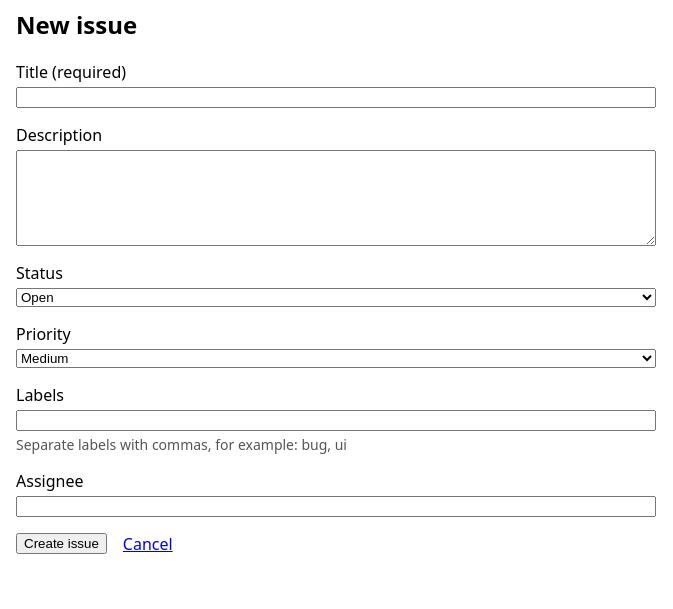
IssueCreateView › shows a readable message for a non-validation failure
The width and height of the screenshot is (673, 609).
Type "Valid title" into the field with id "issue-title" at (336,97), box [16,87,656,108]
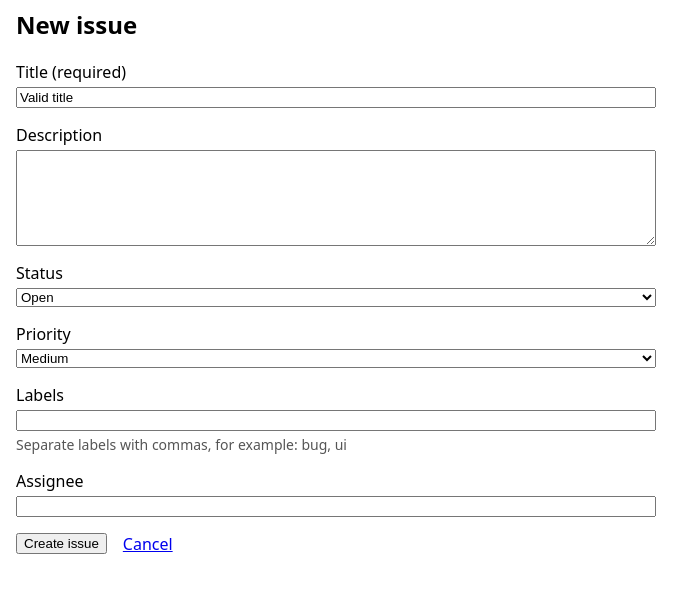
Submit the form
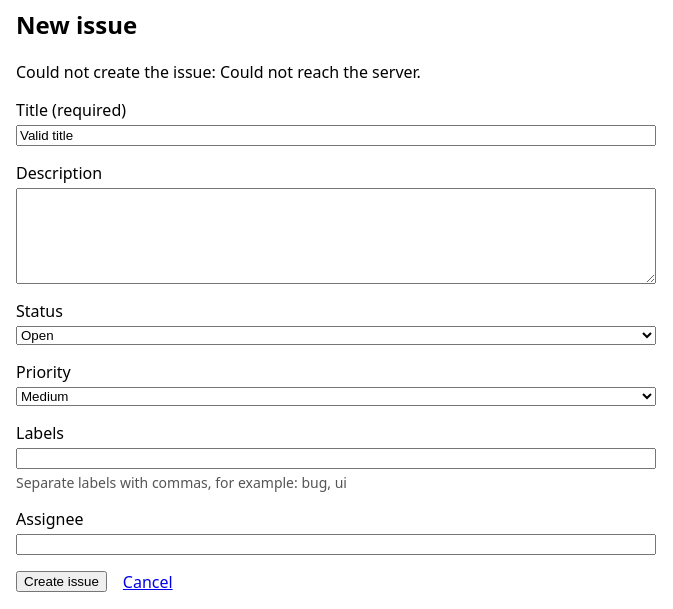
Expected: the submit button is enabled, [16,571,107,592]
Result: the message "Could not create the issue: Could not reach the server." is shown at [16,61,421,83]
